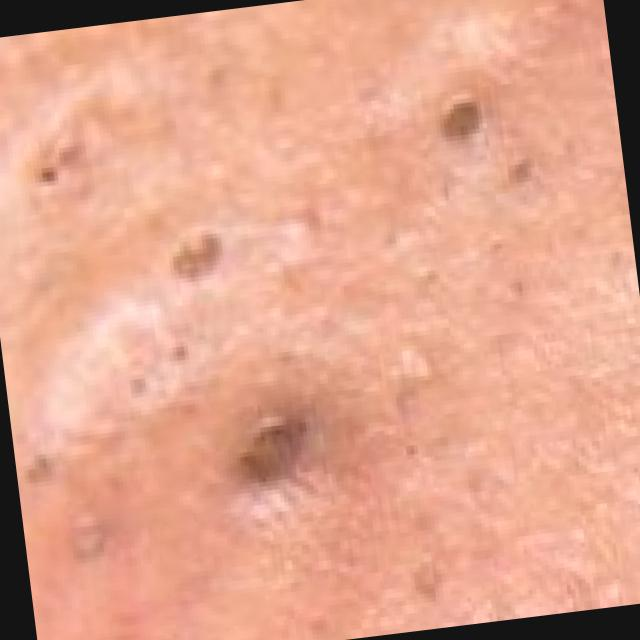blackhead: (241, 425, 294, 481), (441, 104, 478, 140), (180, 231, 220, 264), (70, 532, 104, 562), (412, 563, 442, 594), (170, 253, 202, 279), (508, 160, 529, 182), (35, 166, 58, 186), (128, 376, 147, 399), (170, 344, 188, 362), (24, 467, 41, 484), (32, 452, 48, 470)
